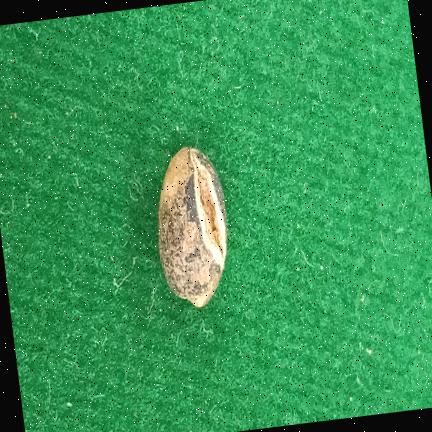partial-black: (158, 147, 227, 306)
